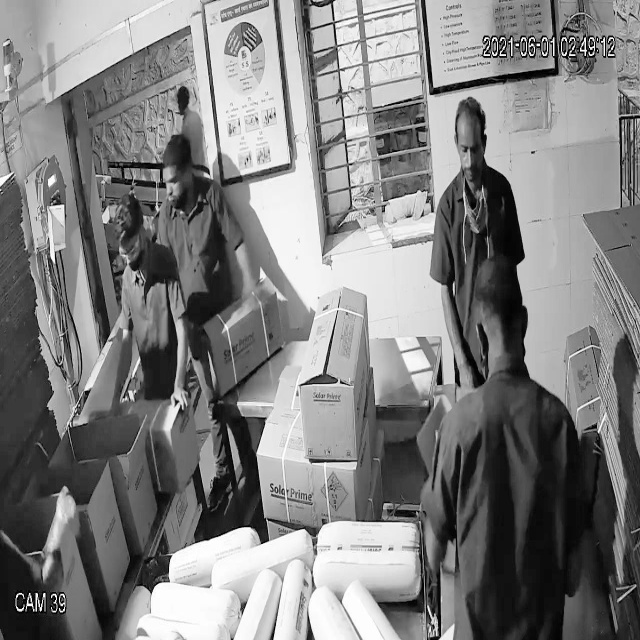Gafas: (114, 231, 150, 270)
Sin_gafas: (448, 130, 491, 169)
